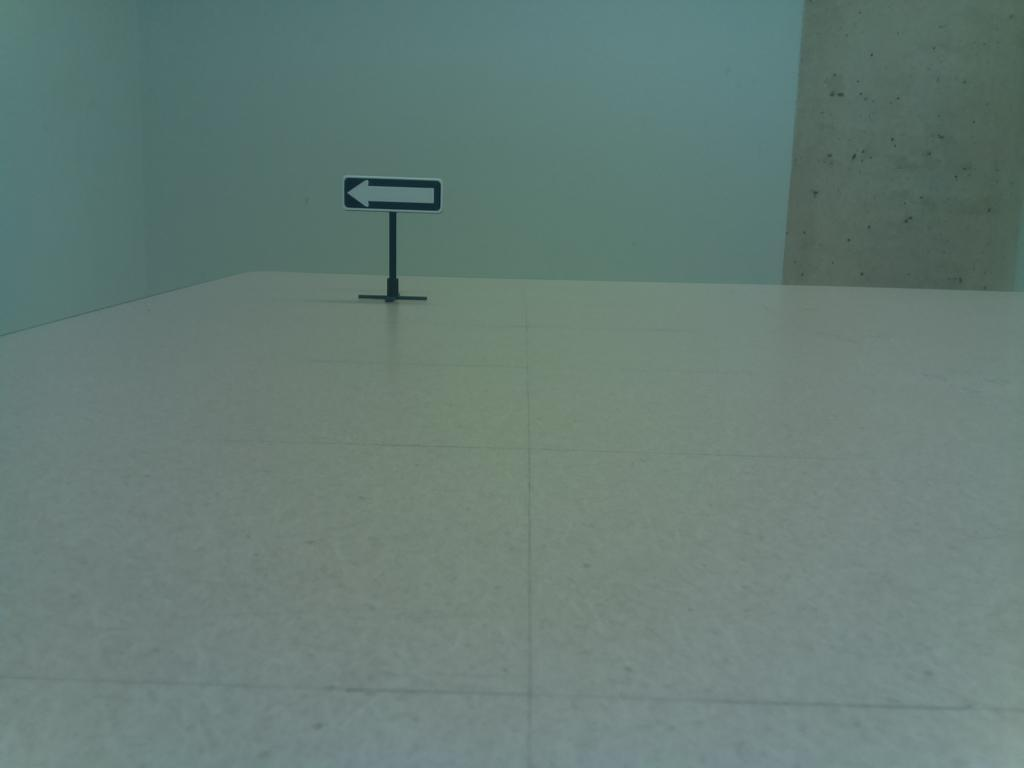sign_oneway_left: (337, 171, 450, 220)
